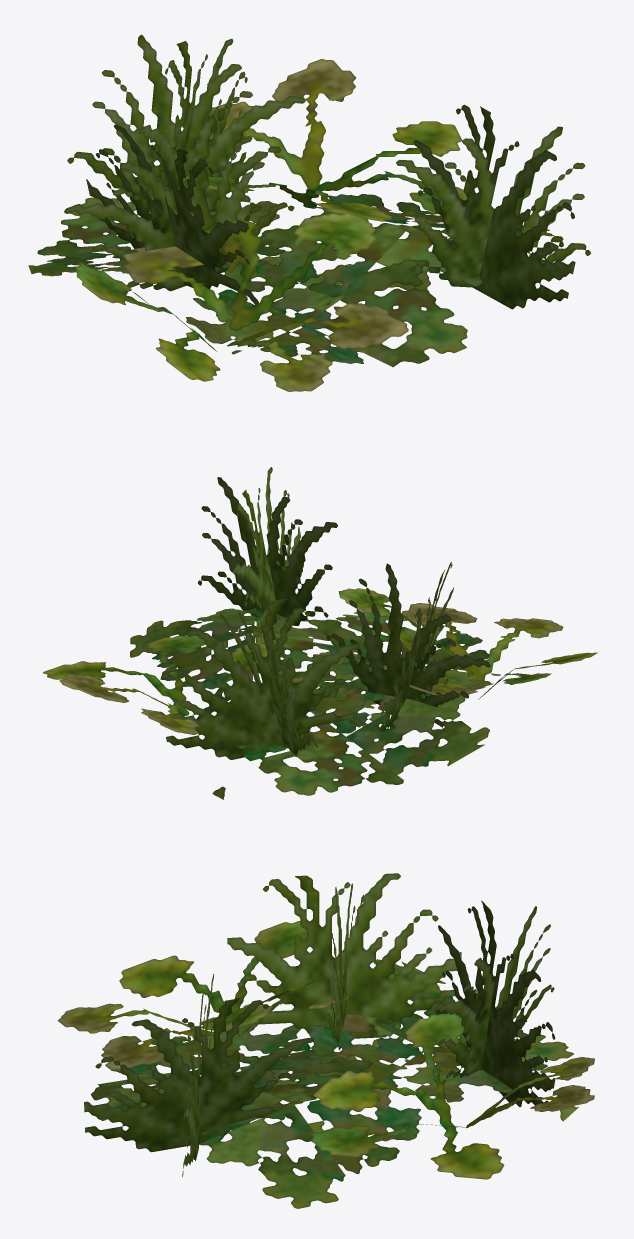
Rendered from forestfloor.obj.
3 renders of one model, top to bottom at view 1: azimuth 30°, elevation 25°; view 2: azimuth 150°, elevation 25°; view 3: azimuth 270°, elevation 25°, orthographic. The views are drawn at different scales.
Parts seen in each view (by area): view 1: plane, cube; view 2: plane, cube; view 3: plane, cube.
Boxes of the visible parts, <box> form: plane: <box>28,59,554,391</box>; cube: <box>64,34,590,309</box>; plane: <box>43,588,597,799</box>; cube: <box>160,467,490,759</box>; plane: <box>57,921,594,1208</box>; cube: <box>84,873,555,1176</box>.
Bounding box in the file's own units: 2.25 × 1.03 × 2.21.
